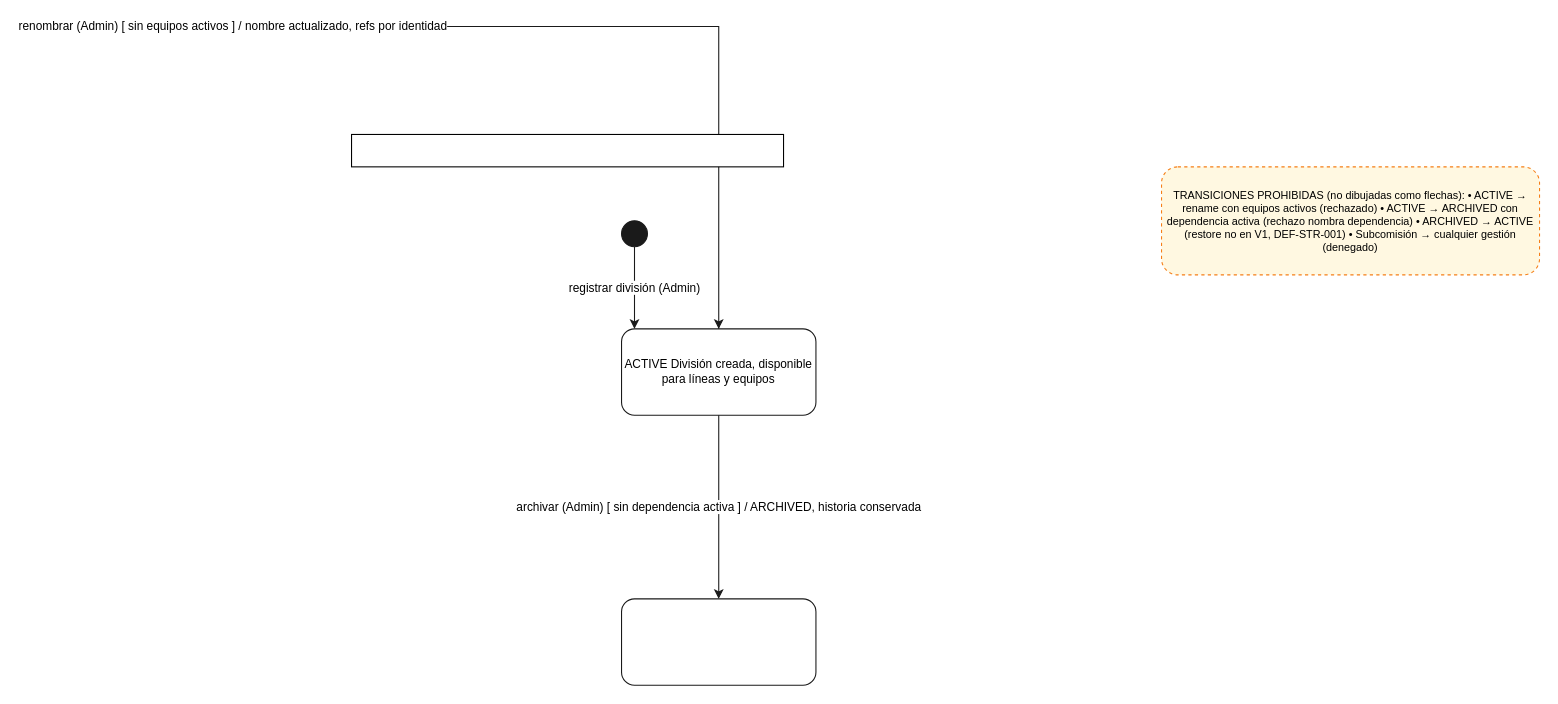
This 1558x704 diagram has some shape labels left out. Here are the shapes that lost their labels. From the top down, the centre of each, then its label:
[567,150]: Division Lifecycle
[718,641]: ARCHIVED División archivada (terminal V1), historia conservada
